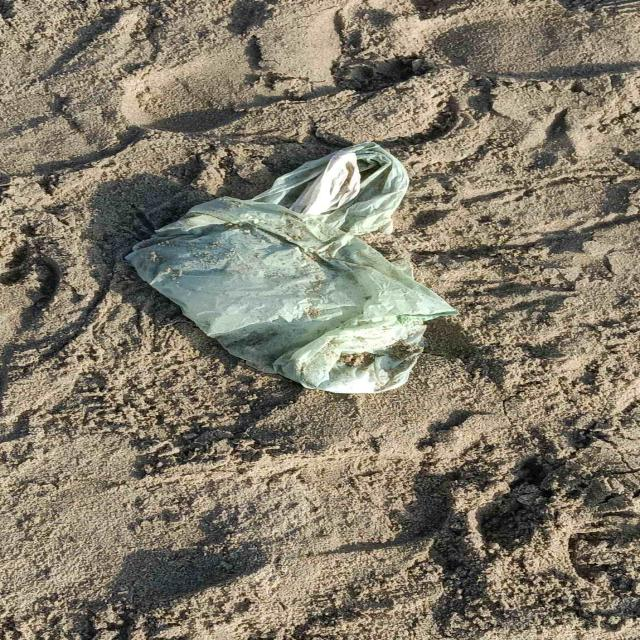plastic: (125, 141, 455, 394)
